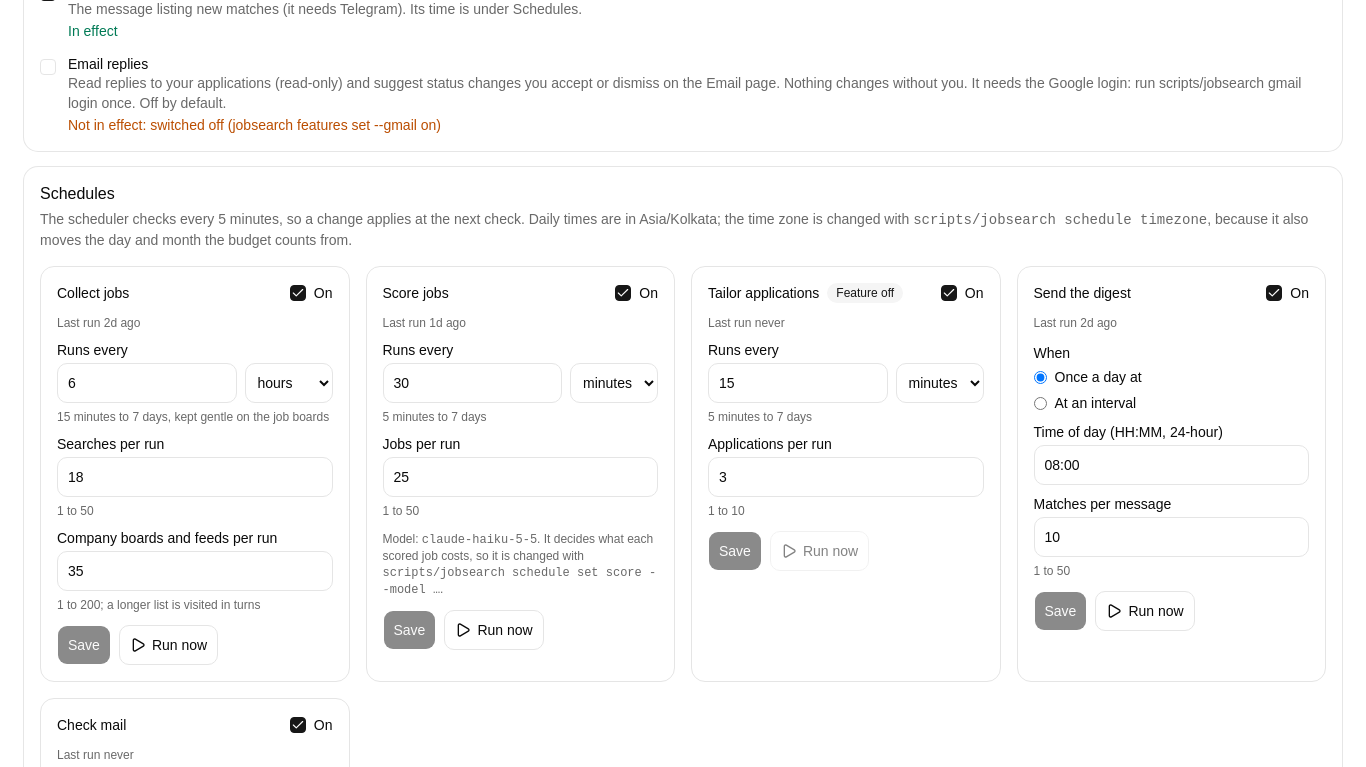
schedules › shows the scraper's own refusal next to the form and keeps what was typed
The image size is (1366, 767).
(page scrolled)
Select "minutes" in the dropdown named "Unit" below "Collect jobs" at (288, 383), box [244,363,332,403]
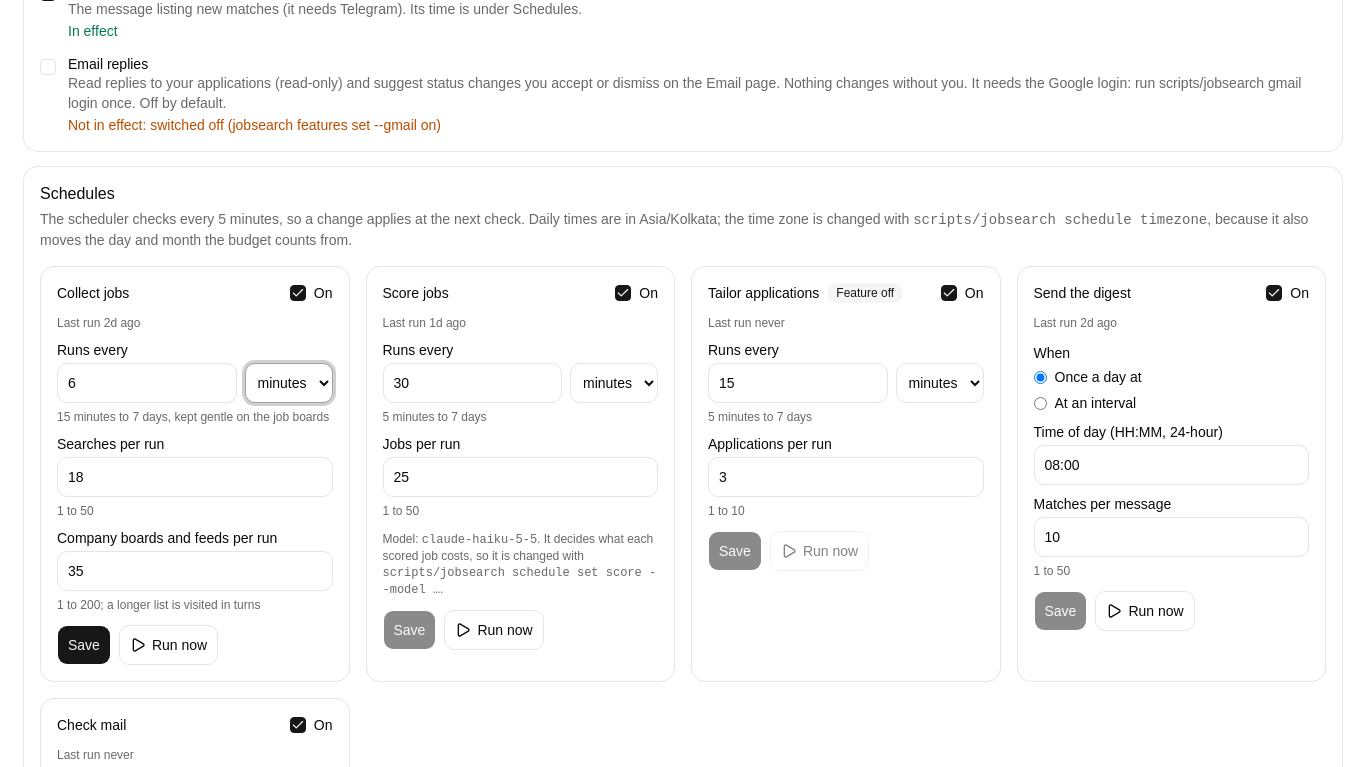
Replace the text in the field labelled "Runs every" below "Collect jobs" with "5" at (147, 383), box [57,363,236,403]
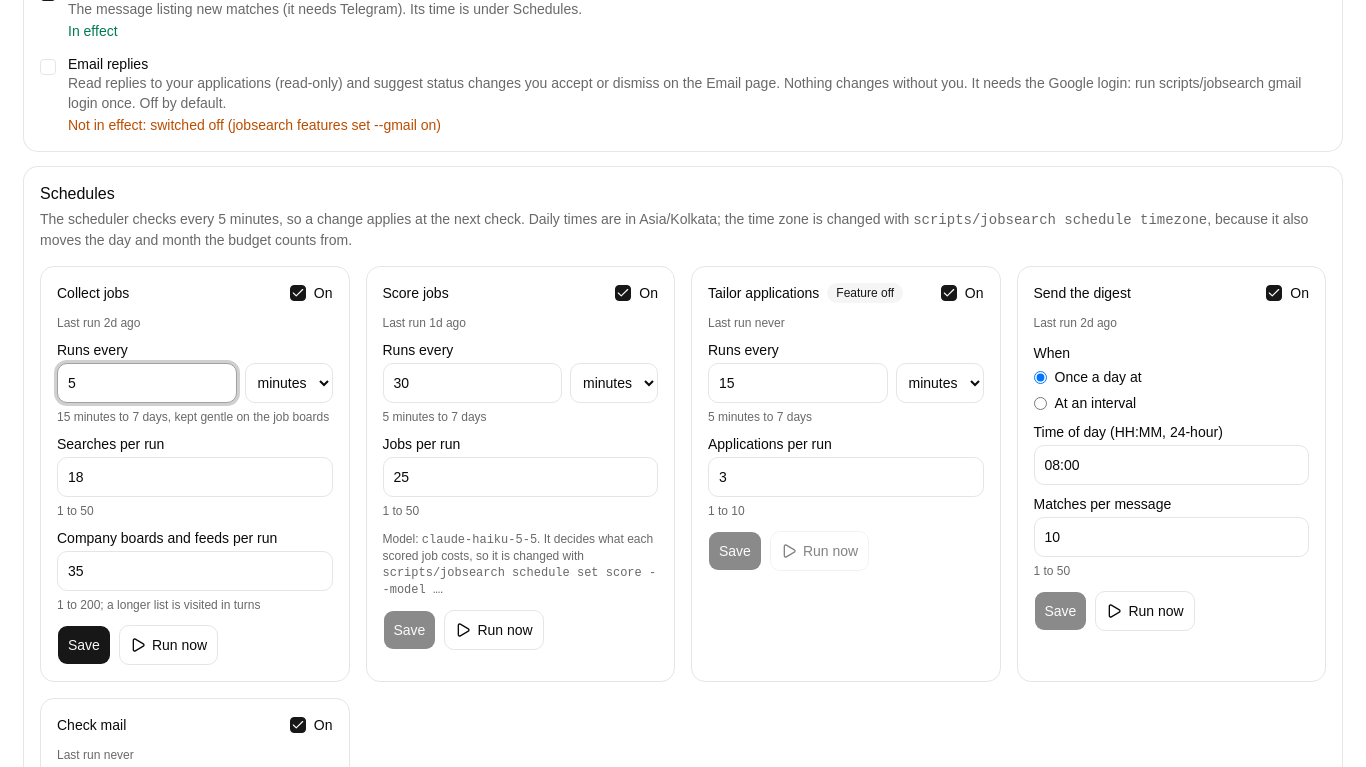
Click the button "Save" below "Company boards and feeds per run" at (84, 645), box [57,625,111,665]
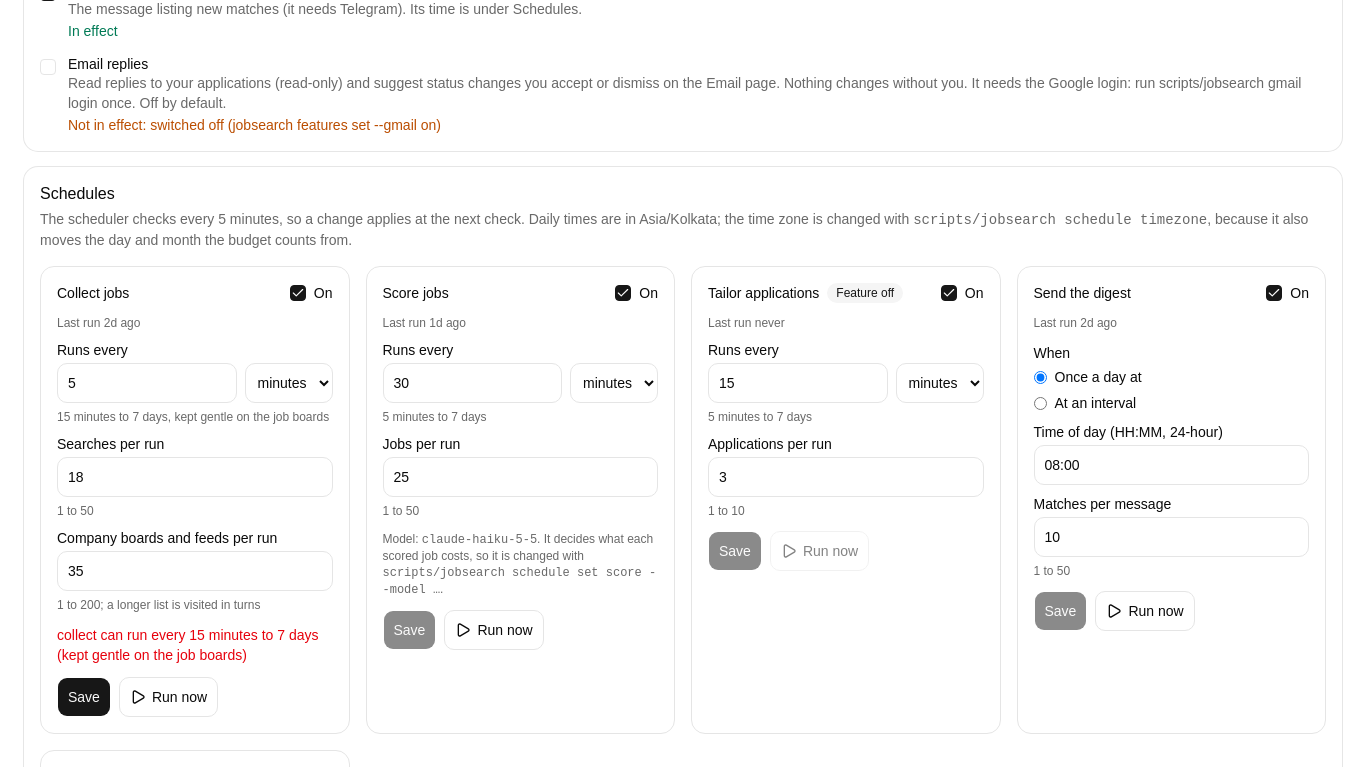
Check: the message shows "collect can run every 15 minutes to 7 days", box [57,627,318,663]
